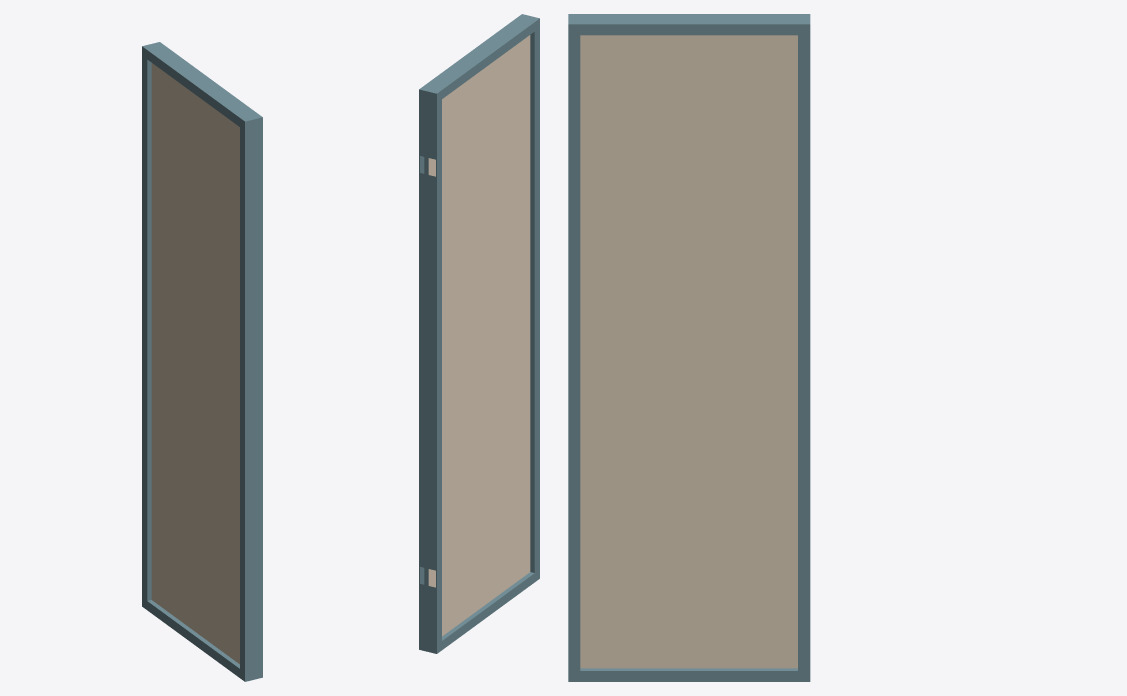
The model's file is Sign.fbx.
3 renders of one model, left to right at view 1: azimuth 30°, elevation 25°; view 2: azimuth 150°, elevation 25°; view 3: azimuth 270°, elevation 25°, orthographic. The views are drawn at different scales.
Visible parts, largest first — view 1: Cube; view 2: Cube; view 3: Cube.
Boxes of the visible parts, x1=… form: Cube: x1=142, y1=42, x2=262, y2=681; Cube: x1=419, y1=14, x2=539, y2=653; Cube: x1=568, y1=14, x2=810, y2=681.
Bounding box in the file's own units: 20 × 600 × 450.
